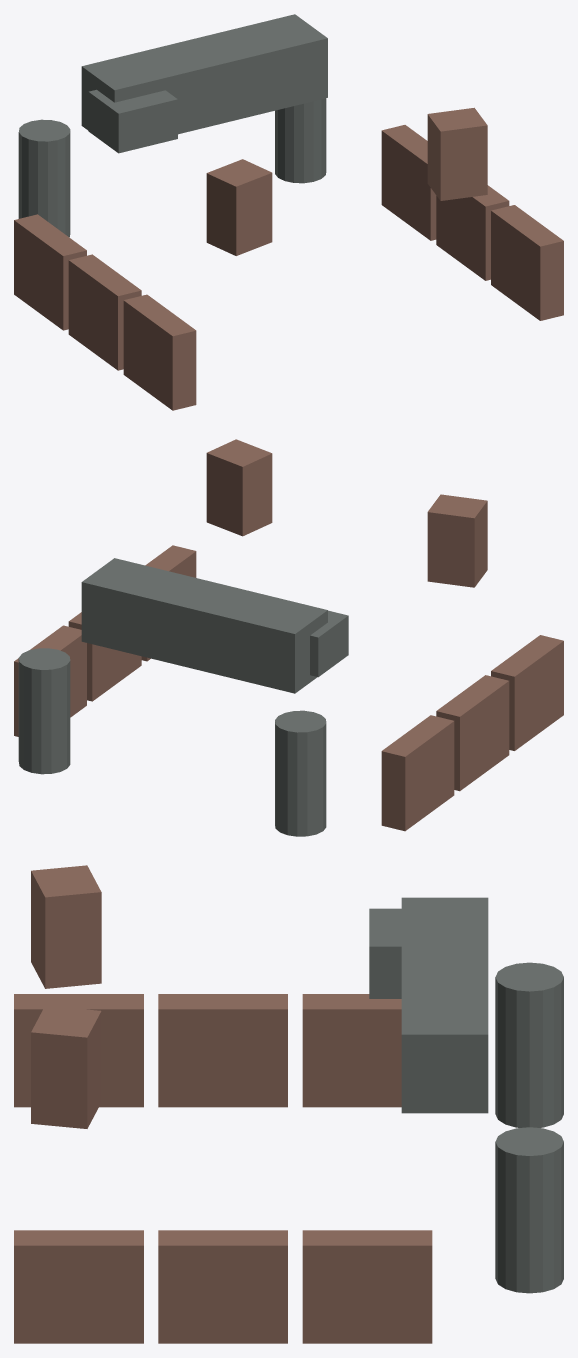
Rendered from soviet_tank_kit.glb.
3 views of the same model, one above another, from view 1: azimuth 30°, elevation 25°; view 2: azimuth 150°, elevation 25°; view 3: azimuth 270°, elevation 25° (orthographic). The views are drawn at different scales.
Parts seen in each view (by area): view 1: kit_turret_bustle, kit_hull_era_l1, kit_hull_era_r1, kit_turret_cheek_left, kit_hull_era_l2, kit_hull_era_l3, kit_fuel_left, kit_turret_cheek_right, kit_hull_era_r3, kit_turret_bin, kit_hull_era_r2, kit_fuel_right; view 2: kit_turret_bustle, kit_hull_era_l3, kit_fuel_right, kit_fuel_left, kit_turret_cheek_right, kit_hull_era_l2, kit_hull_era_l1, kit_turret_cheek_left, kit_hull_era_r3, kit_hull_era_r2, kit_turret_bin, kit_hull_era_r1; view 3: kit_turret_bustle, kit_hull_era_r3, kit_hull_era_l2, kit_hull_era_r1, kit_hull_era_r2, kit_hull_era_l3, kit_fuel_right, kit_fuel_left, kit_turret_cheek_right, kit_turret_cheek_left, kit_hull_era_l1, kit_turret_bin.
Boxes of the visible parts, x1=… form: kit_turret_bustle: x1=81, y1=14, x2=327, y2=134; kit_hull_era_l1: x1=123, y1=294, x2=196, y2=410; kit_hull_era_r1: x1=491, y1=205, x2=563, y2=320; kit_turret_cheek_left: x1=206, y1=159, x2=272, y2=255; kit_hull_era_l2: x1=68, y1=254, x2=141, y2=370; kit_hull_era_l3: x1=14, y1=214, x2=86, y2=330; kit_fuel_left: x1=18, y1=119, x2=70, y2=237; kit_turret_cheek_right: x1=427, y1=107, x2=487, y2=200; kit_hull_era_r3: x1=381, y1=125, x2=436, y2=240; kit_turret_bin: x1=88, y1=89, x2=177, y2=153; kit_hull_era_r2: x1=436, y1=185, x2=509, y2=280; kit_fuel_right: x1=275, y1=98, x2=326, y2=183; kit_turret_bustle: x1=81, y1=558, x2=327, y2=693; kit_hull_era_l3: x1=381, y1=715, x2=454, y2=831; kit_fuel_right: x1=18, y1=648, x2=70, y2=774; kit_fuel_left: x1=275, y1=710, x2=326, y2=836; kit_turret_cheek_right: x1=206, y1=439, x2=272, y2=536; kit_hull_era_l2: x1=436, y1=675, x2=509, y2=791; kit_hull_era_l1: x1=491, y1=635, x2=563, y2=750; kit_turret_cheek_left: x1=427, y1=494, x2=487, y2=587; kit_hull_era_r3: x1=14, y1=625, x2=86, y2=736; kit_hull_era_r2: x1=68, y1=612, x2=141, y2=701; kit_turret_bin: x1=310, y1=610, x2=348, y2=677; kit_hull_era_r1: x1=141, y1=545, x2=196, y2=661; kit_turret_bustle: x1=401, y1=897, x2=488, y2=1113; kit_hull_era_r3: x1=302, y1=1230, x2=432, y2=1343; kit_hull_era_l2: x1=158, y1=994, x2=287, y2=1107; kit_hull_era_r1: x1=14, y1=1230, x2=143, y2=1343; kit_hull_era_r2: x1=158, y1=1230, x2=287, y2=1343; kit_hull_era_l3: x1=302, y1=994, x2=401, y2=1107; kit_fuel_right: x1=495, y1=1127, x2=563, y2=1293; kit_fuel_left: x1=495, y1=962, x2=563, y2=1127; kit_turret_cheek_right: x1=31, y1=1005, x2=101, y2=1128; kit_turret_cheek_left: x1=31, y1=865, x2=101, y2=988; kit_hull_era_l1: x1=14, y1=994, x2=143, y2=1107; kit_turret_bin: x1=369, y1=908, x2=401, y2=998.
Size of what is drawn, in the model's own units: 3.3 by 1.63 by 3.05.
